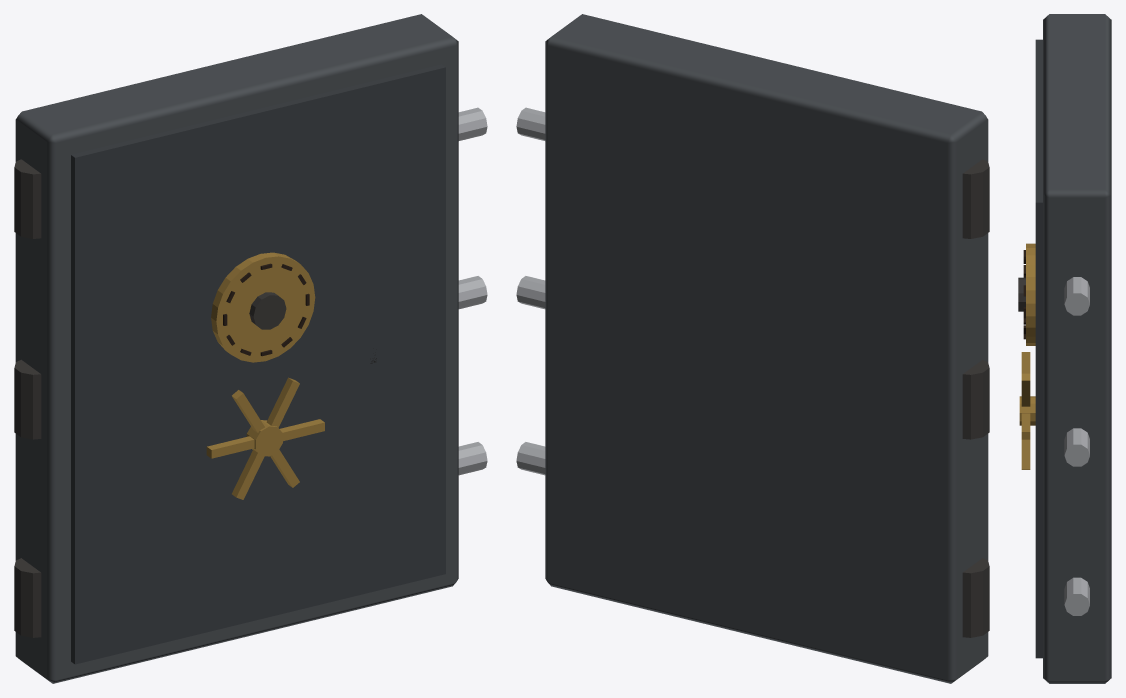
File: TownVaultDoor.glb
3 renders of one model, left to right at view 1: azimuth 30°, elevation 25°; view 2: azimuth 150°, elevation 25°; view 3: azimuth 270°, elevation 25°, orthographic. The views are drawn at different scales.
Parts seen in each view (by area): view 1: TownVaultDoor.001; view 2: TownVaultDoor.001; view 3: TownVaultDoor.001.
Part boxes in pixels (<box>): TownVaultDoor.001: <box>14,14,487,683</box>; TownVaultDoor.001: <box>516,14,989,683</box>; TownVaultDoor.001: <box>1018,14,1111,683</box>.
Bounding box in the file's own units: 2.25 × 2.55 × 0.435.
